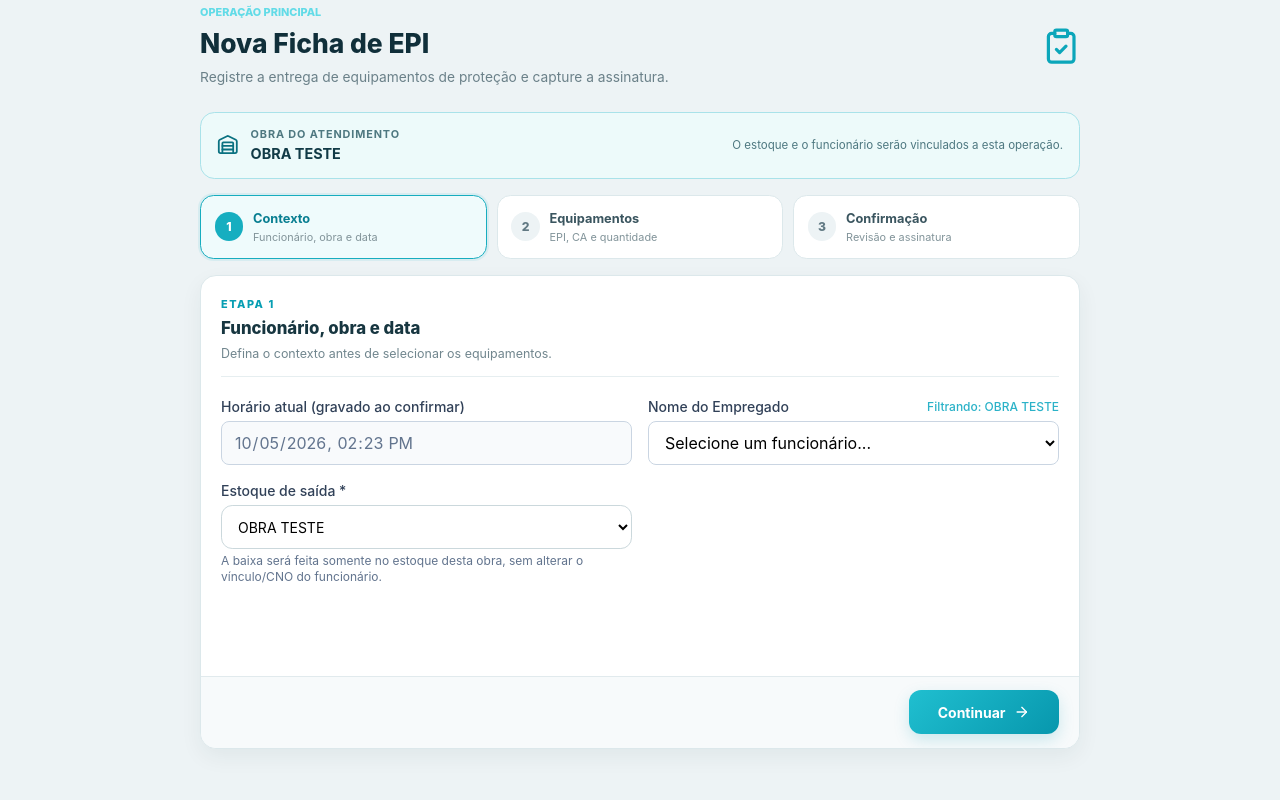
Test case: regressão dos defeitos corrigidos › a revisão mostra descrição, CA e quantidade dos EPIs
Select "FUNCIONARIO FICTICIO (TESTE) - OBRA TESTE" in the dropdown labelled "Nome do Empregado" at coordinates (854, 443), box [648, 421, 1059, 465]
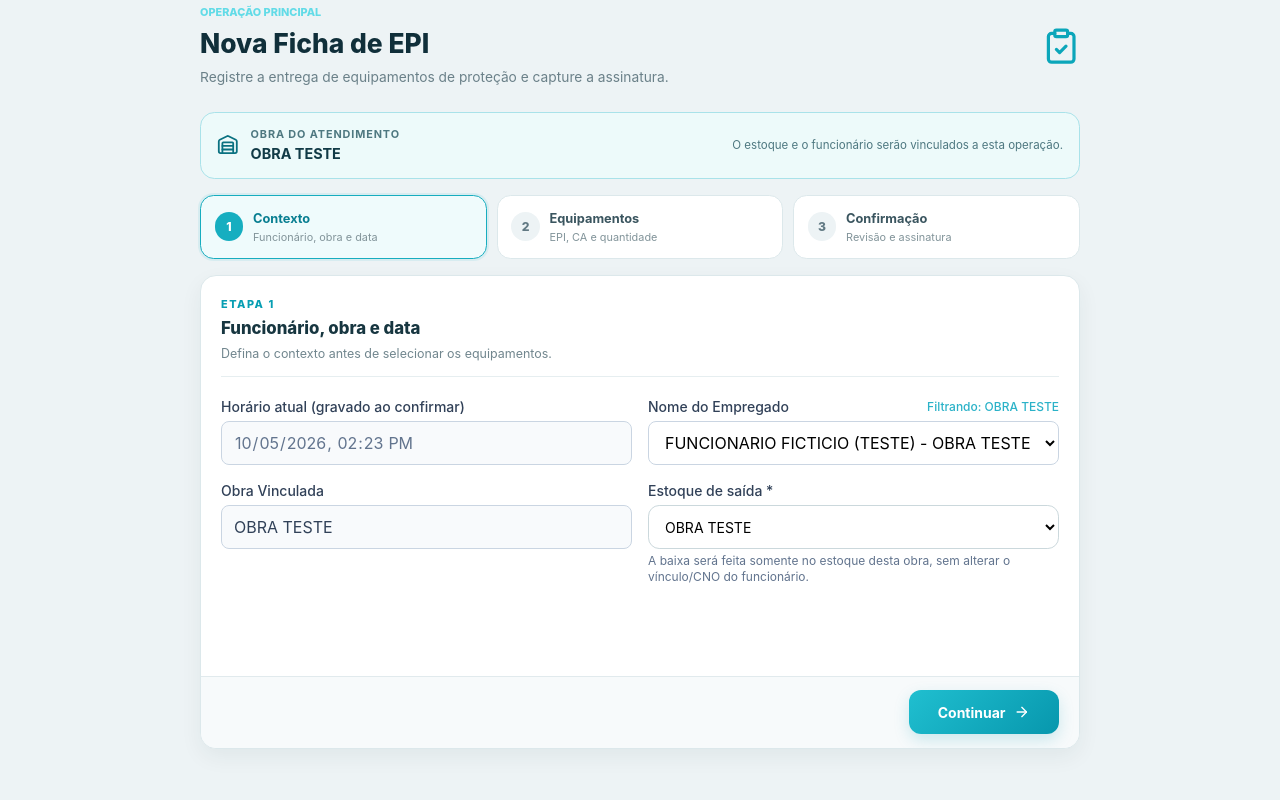
Click the button "Continuar" at coordinates (984, 712), box [909, 690, 1059, 734]
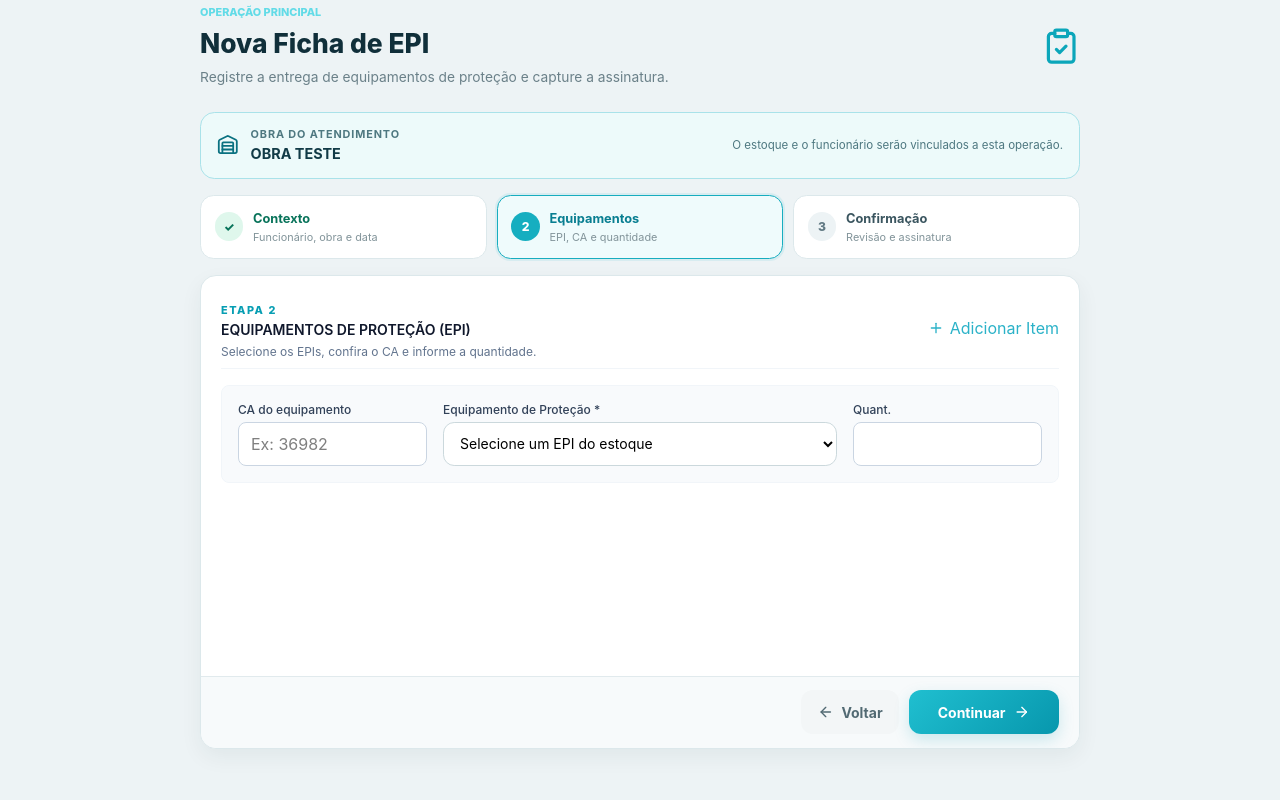
Expected: the dropdown labelled "Equipamento de Proteção *" is shown
Select "LUVA TESTE · CA: 111 · 2 PAR · Código: m1" in the dropdown labelled "Equipamento de Proteção *" at coordinates (640, 444), box [443, 422, 837, 466]
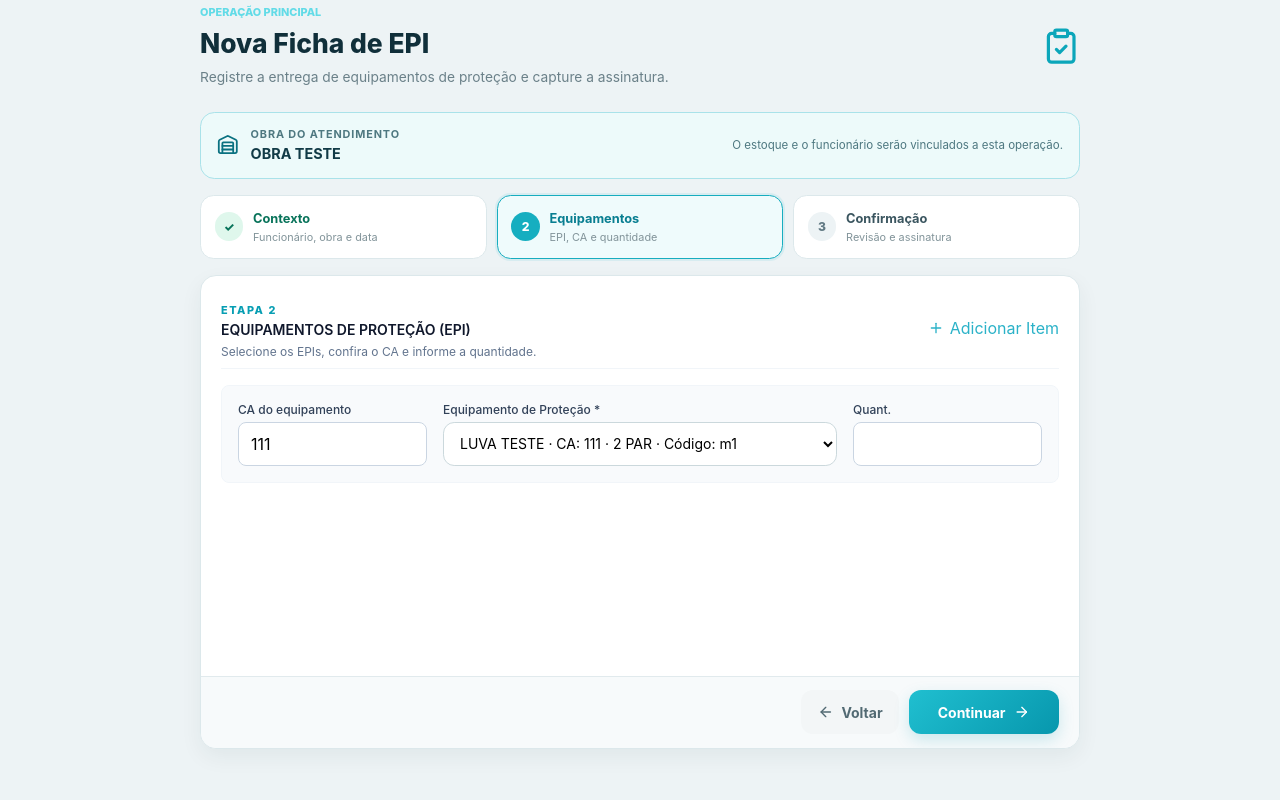
Type "2" into the number field at coordinates (948, 444), box [853, 422, 1042, 466]
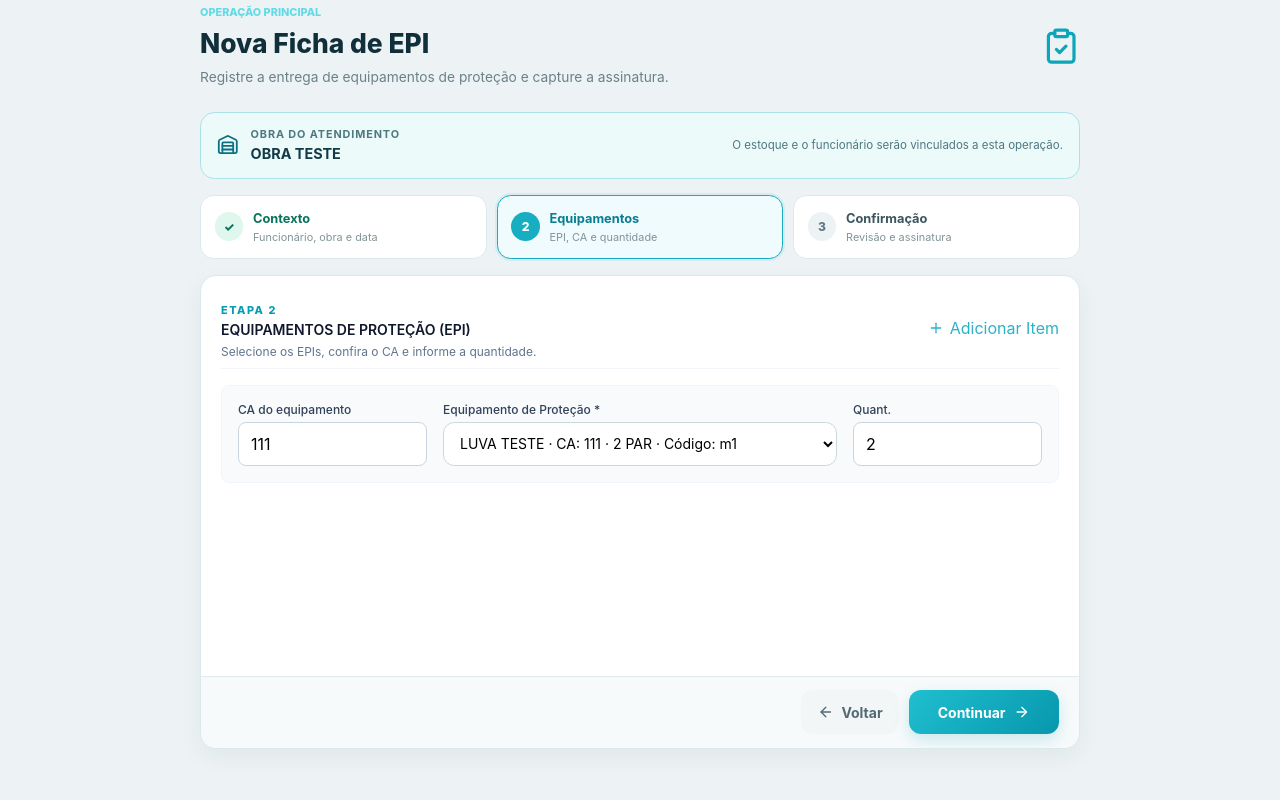
Click the button "Continuar" at coordinates (984, 712), box [909, 690, 1059, 734]
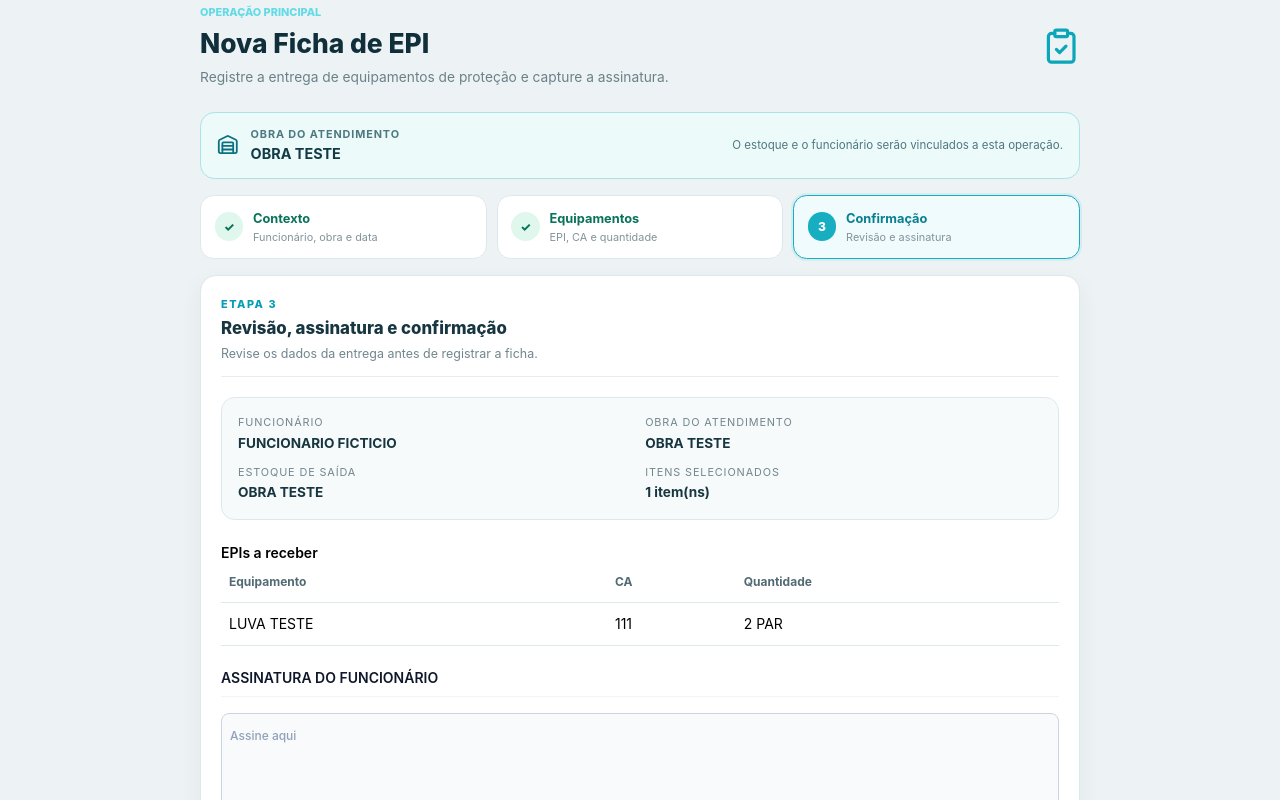
Expected: the table shows "LUVA TESTE", [229, 615, 314, 632]
Expected: the table shows "2 PAR", [221, 542, 1059, 646]
Expected: the table shows "111", [615, 615, 632, 632]
